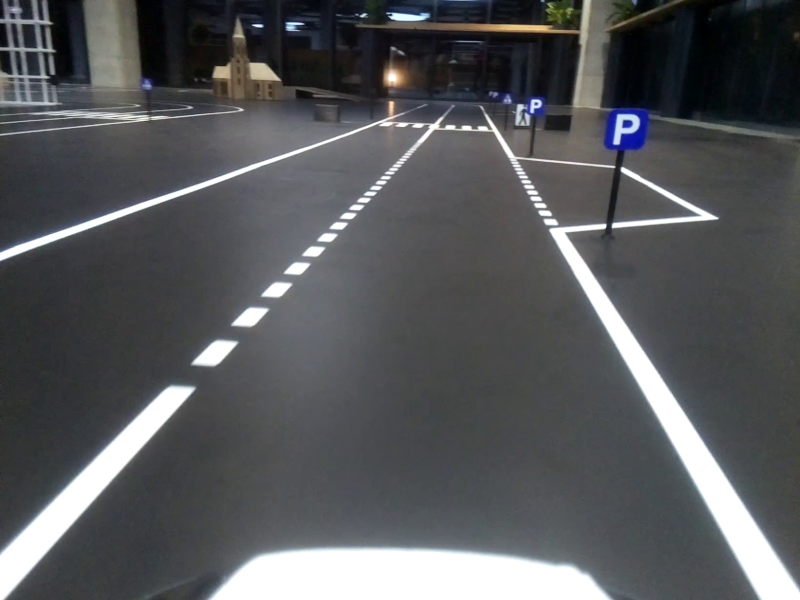park: (606, 113, 645, 149)
